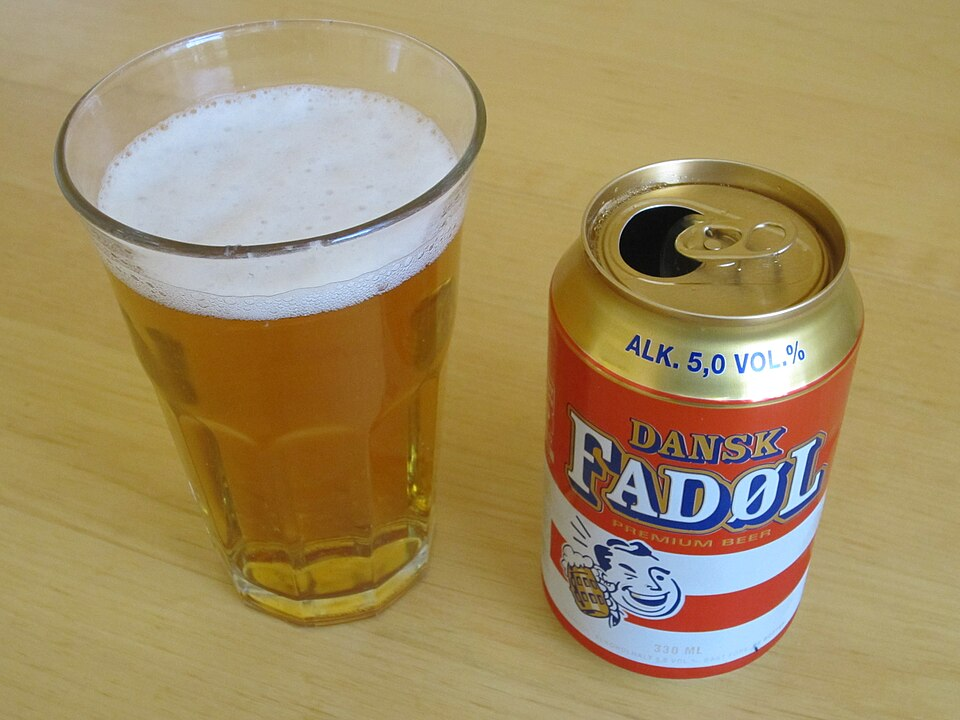beer-can: (528, 151, 869, 691)
